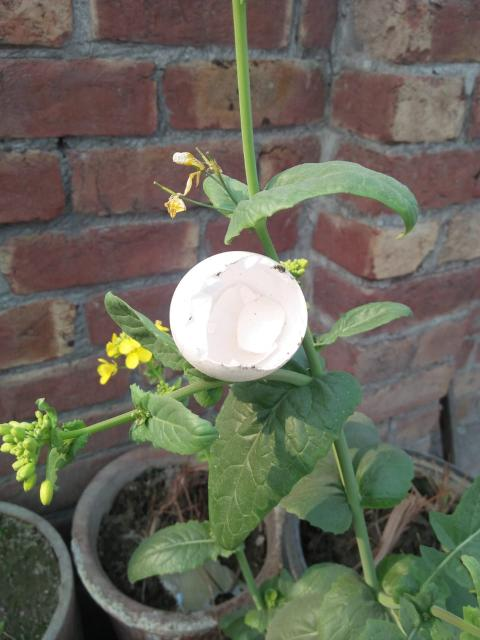Roto: (168, 249, 308, 382)
